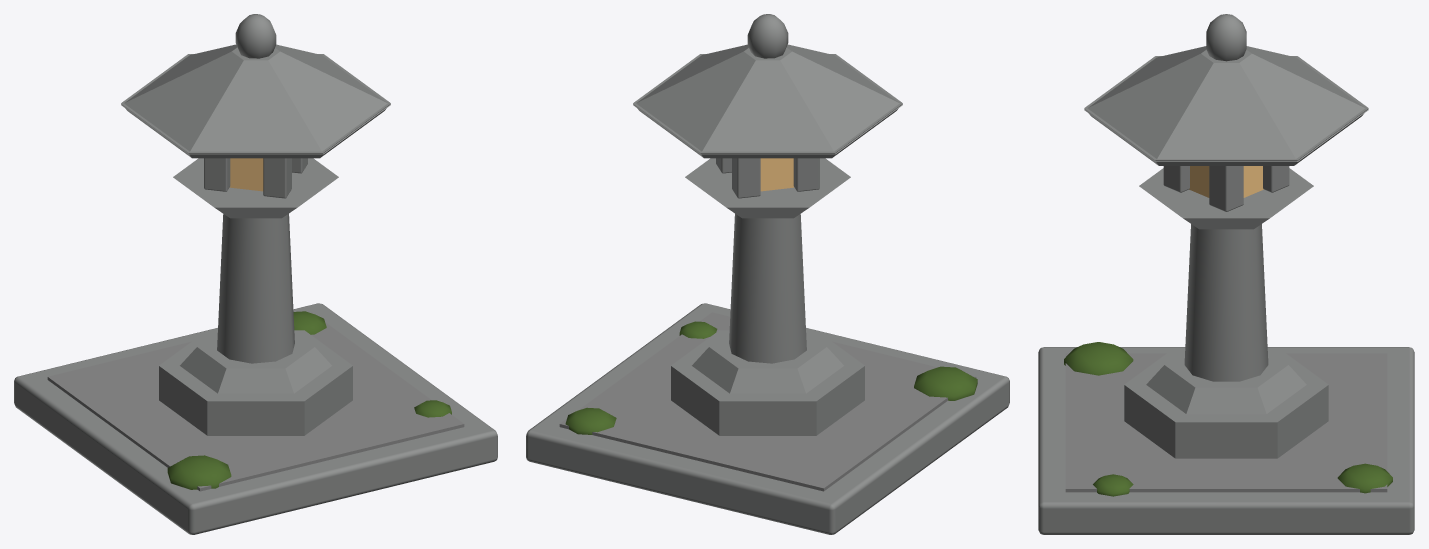
The model's file is village-lantern.glb.
The picture shows the model from 3 angles, left to right: view 1: azimuth 30°, elevation 25°; view 2: azimuth 150°, elevation 25°; view 3: azimuth 270°, elevation 25°; orthographic projection. The views are drawn at different scales.
Parts seen in each view (by area): view 1: village-stone, village-cobble, moss, village-flame; view 2: village-stone, village-cobble, moss, village-flame; view 3: village-stone, village-cobble, moss, village-flame.
Part boxes in pixels (left/top/right/bottom): village-stone: left=14, top=14, right=497, bottom=534; village-cobble: left=47, top=312, right=464, bottom=491; moss: left=167, top=311, right=451, bottom=489; village-flame: left=229, top=158, right=263, bottom=191; village-stone: left=526, top=14, right=1009, bottom=534; village-cobble: left=559, top=312, right=976, bottom=491; moss: left=565, top=321, right=977, bottom=434; village-flame: left=760, top=158, right=794, bottom=191; village-stone: left=1038, top=14, right=1414, bottom=534; village-cobble: left=1065, top=353, right=1387, bottom=492; moss: left=1064, top=342, right=1392, bottom=496; village-flame: left=1189, top=166, right=1263, bottom=197.
Bounding box in the file's own units: 2.06 × 2.67 × 2.06.
